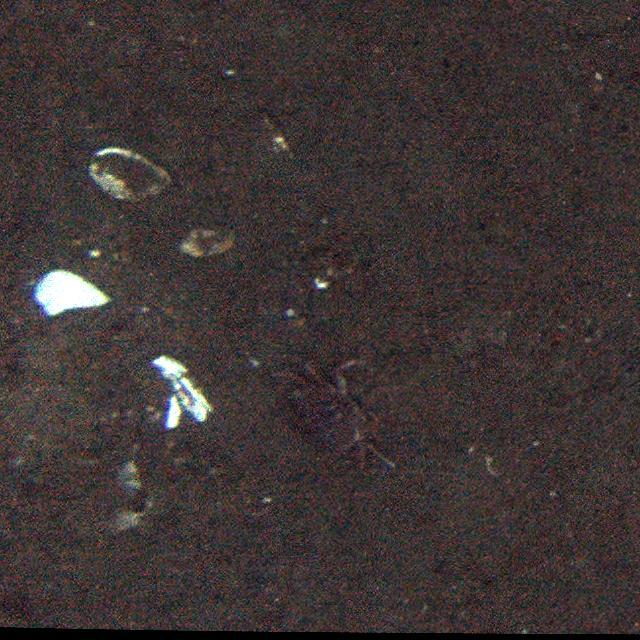crab: (274, 354, 396, 474)
